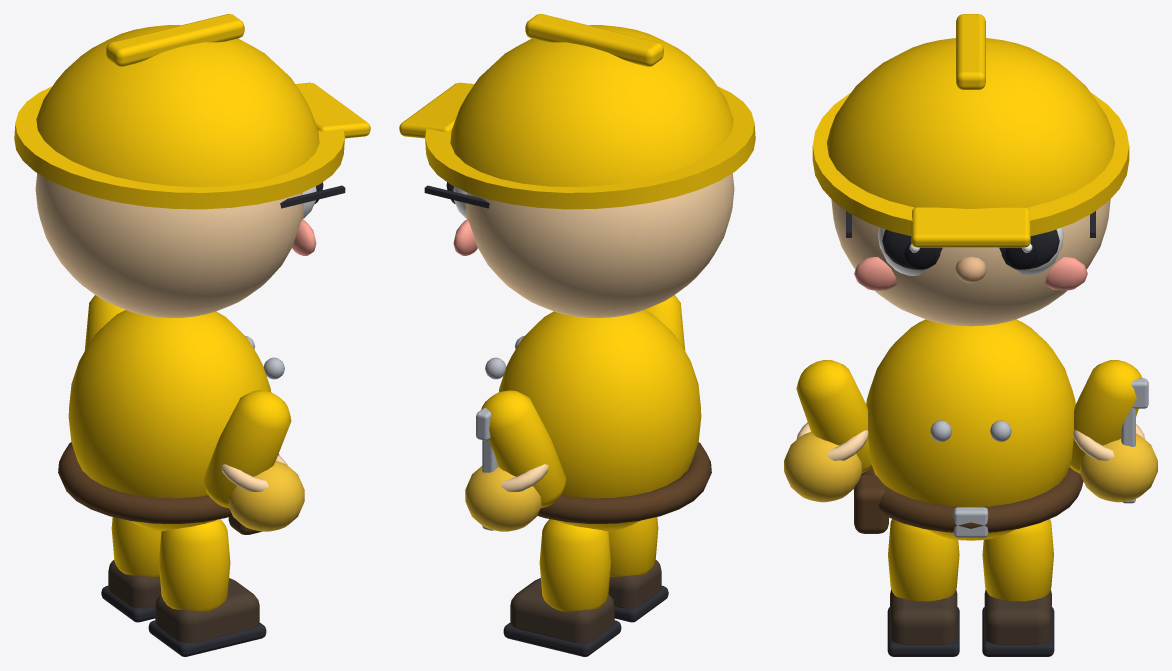
File: worker_driver.glb
3 views of the same model, side by side, from view 1: azimuth 30°, elevation 25°; view 2: azimuth 150°, elevation 25°; view 3: azimuth 270°, elevation 25° (orthographic).
Visible parts, largest first — view 1: Head.HatDome, Torso.Body, Head.Skull, Head.HatBrim, Leg.Upper.001, Arm.Upper.001, Torso.Belt, Leg.Boot.001, Arm.Hand.001, Head.HatRidge, Leg.Upper, Head.HatVisor (+7 smaller); view 2: Head.HatDome, Torso.Body, Head.Skull, Head.HatBrim, Leg.Upper, Arm.Upper, Torso.Belt, Leg.Boot, Arm.Hand, Head.HatRidge, Leg.Upper.001, Head.HatVisor (+7 smaller); view 3: Head.HatDome, Torso.Body, Head.Skull, Head.HatBrim, Torso.Belt, Leg.Upper, Leg.Upper.001, Head.HatVisor, Arm.Upper.001, Arm.Upper, Arm.Hand.001, Arm.Hand (+16 smaller).
Part boxes in pixels (<box>): Head.HatDome: <box>36,25,319,186</box>; Torso.Body: <box>68,310,271,531</box>; Head.Skull: <box>35,173,303,317</box>; Head.HatBrim: <box>14,86,344,209</box>; Leg.Upper.001: <box>159,519,230,611</box>; Arm.Upper.001: <box>203,390,291,507</box>; Torso.Belt: <box>58,442,279,523</box>; Leg.Boot.001: <box>155,578,259,642</box>; Arm.Hand.001: <box>228,461,304,531</box>; Head.HatRidge: <box>106,14,244,66</box>; Leg.Upper: <box>111,517,161,577</box>; Head.HatVisor: <box>295,82,370,138</box>; Head.HatDome: <box>450,25,733,186</box>; Torso.Body: <box>498,310,701,531</box>; Head.Skull: <box>466,173,734,317</box>; Head.HatBrim: <box>425,86,755,209</box>; Leg.Upper: <box>539,519,610,611</box>; Arm.Upper: <box>481,390,566,507</box>; Torso.Belt: <box>537,442,711,523</box>; Leg.Boot: <box>510,578,614,642</box>; Arm.Hand: <box>465,466,541,531</box>; Head.HatRidge: <box>525,14,663,66</box>; Leg.Upper.001: <box>608,517,658,577</box>; Head.HatVisor: <box>399,82,474,138</box>; Head.HatDome: <box>827,38,1114,208</box>; Torso.Body: <box>866,319,1075,540</box>; Head.Skull: <box>831,199,1110,326</box>; Head.HatBrim: <box>812,93,1129,235</box>; Torso.Belt: <box>861,467,1083,532</box>; Leg.Upper: <box>982,519,1053,601</box>; Leg.Upper.001: <box>888,519,959,601</box>; Head.HatVisor: <box>911,207,1030,247</box>; Arm.Upper.001: <box>796,360,872,473</box>; Arm.Upper: <box>1069,360,1142,473</box>; Arm.Hand.001: <box>784,432,862,502</box>; Arm.Hand: <box>1079,433,1157,502</box>.
Size of the model in its own units: 0.7173 by 1.31 by 0.7512.
